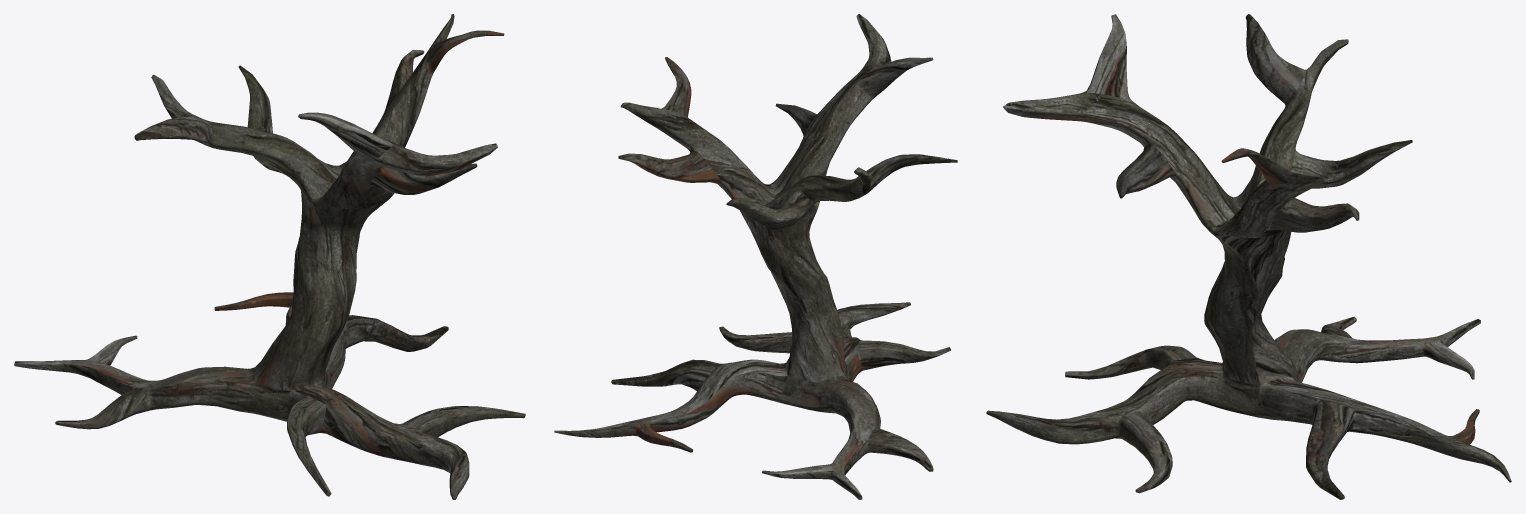
The model's file is arbo_old_dead_tree.glb.
3 views of the same model, side by side, from view 1: azimuth 30°, elevation 25°; view 2: azimuth 150°, elevation 25°; view 3: azimuth 270°, elevation 25° (orthographic). The views are drawn at different scales.
Parts seen in each view (by area): view 1: Tree_Mp1_Tree_Dead_0; view 2: Tree_Mp1_Tree_Dead_0; view 3: Tree_Mp1_Tree_Dead_0.
Boxes of the visible parts, x1,y1,x2,y2 form: Tree_Mp1_Tree_Dead_0: (14,14,525,499); Tree_Mp1_Tree_Dead_0: (554,14,957,499); Tree_Mp1_Tree_Dead_0: (986,14,1511,499).
Bounding box in the file's own units: 7.63 × 7 × 9.1.
Materials: 1 (1 with a texture image).
